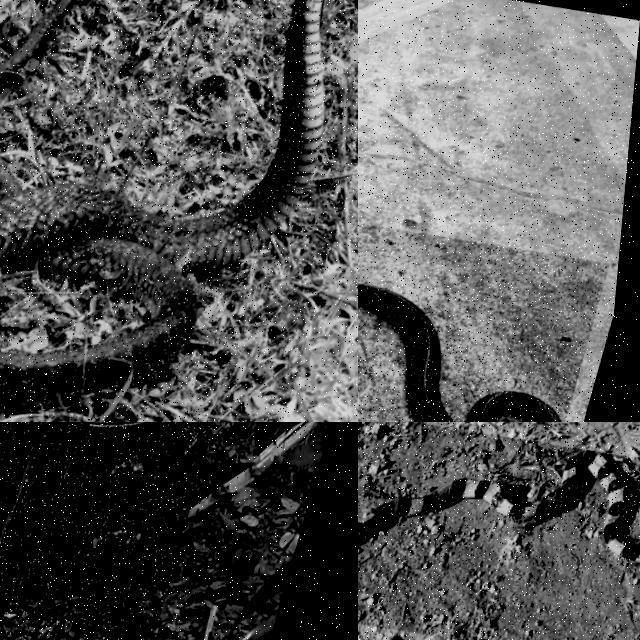Bungarus fasciatus: (358, 450, 639, 563)
Malayopython reticulatus: (0, 422, 208, 614)
Naja kaouthia: (0, 0, 324, 412)
Naja siamensis: (358, 284, 455, 421)
